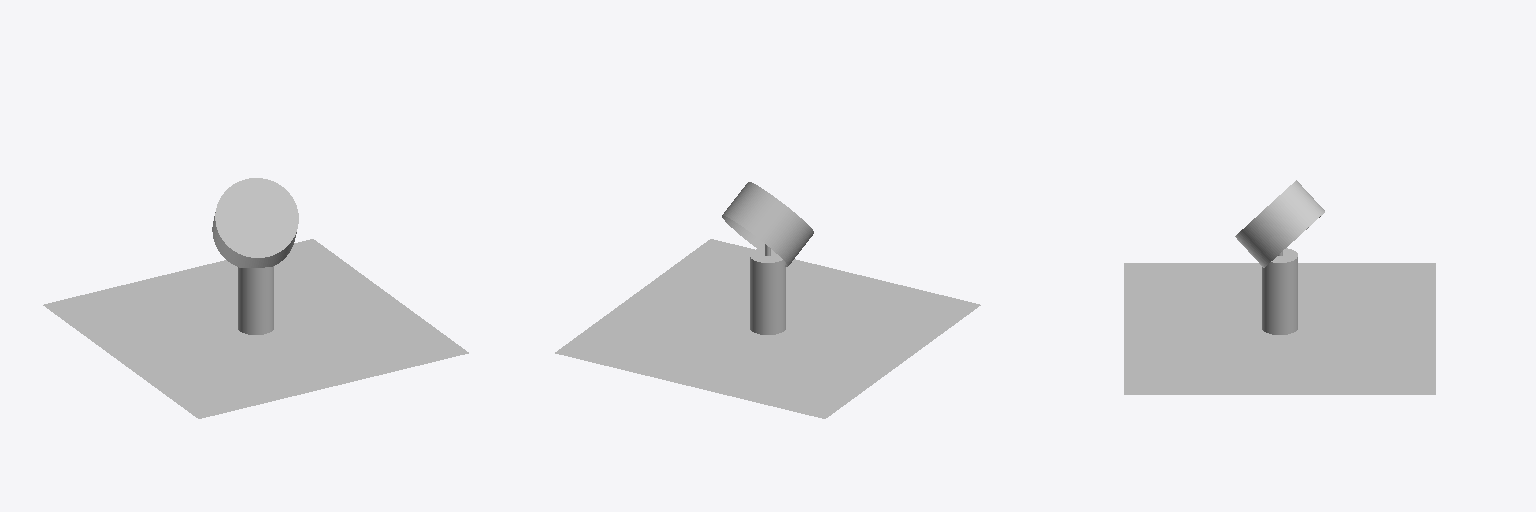
File: lamp18.obj
3 renders of one model, left to right at view 1: azimuth 30°, elevation 25°; view 2: azimuth 150°, elevation 25°; view 3: azimuth 270°, elevation 25°, orthographic.
Parts seen in each view (by area): view 1: Plane, Cylinder.002, Cylinder; view 2: Plane, Cylinder.002, Cylinder, Cylinder.001; view 3: Plane, Cylinder.002, Cylinder.
Boxes of the visible parts, box(x1,y1,x2,y2) form: Plane: box(43, 239, 468, 418); Cylinder.002: box(212, 178, 298, 267); Cylinder: box(238, 266, 273, 334); Plane: box(555, 239, 980, 418); Cylinder.002: box(722, 182, 813, 266); Cylinder: box(750, 265, 785, 334); Cylinder.001: box(750, 244, 785, 269); Plane: box(1124, 263, 1435, 394); Cylinder.002: box(1235, 180, 1324, 267); Cylinder: box(1262, 265, 1297, 334).
Bounding box in the file's own units: 17.18 × 8.85 × 17.18.